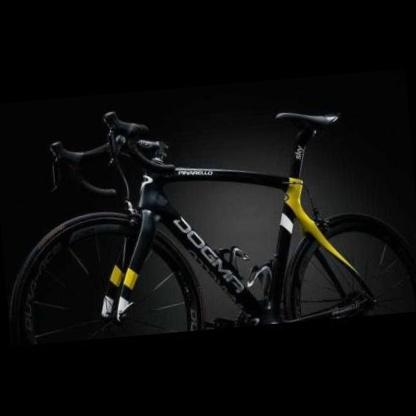Bicycle: (0, 87, 414, 329)
